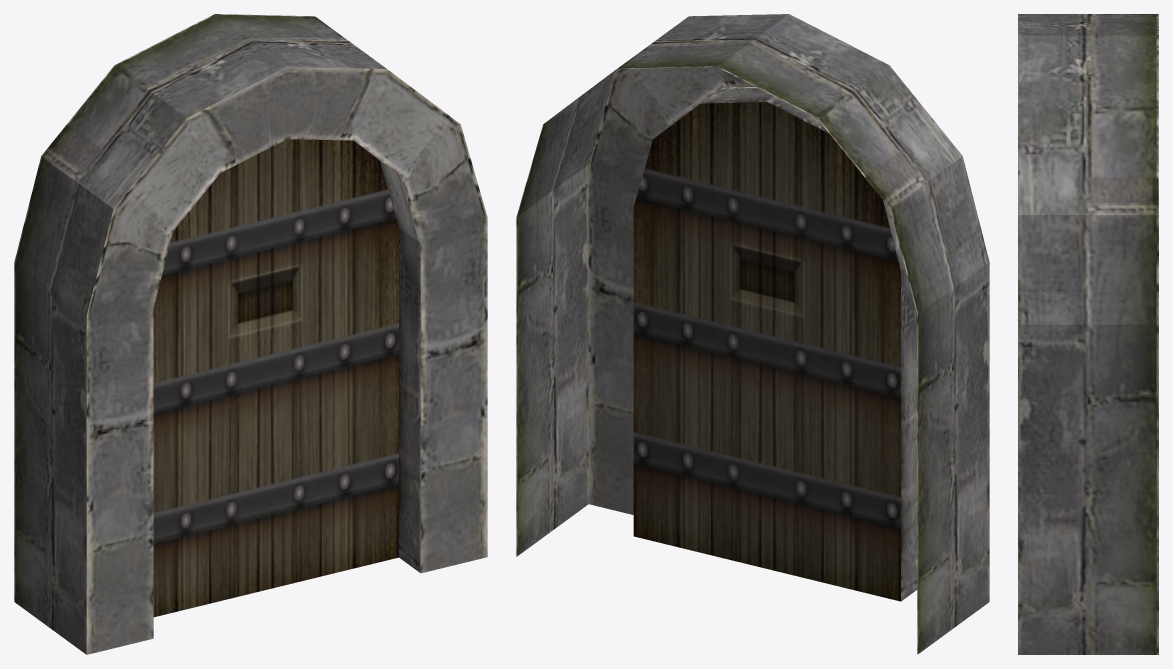
The model's file is CastleHouseDoor.FBX.
3 views of the same model, side by side, from view 1: azimuth 30°, elevation 25°; view 2: azimuth 150°, elevation 25°; view 3: azimuth 270°, elevation 25° (orthographic). The views are drawn at different scales.
Parts seen in each view (by area): view 1: CastleHouseDoor; view 2: CastleHouseDoor; view 3: CastleHouseDoor.
Boxes of the visible parts, x1=… form: CastleHouseDoor: x1=14, y1=14, x2=487, y2=654; CastleHouseDoor: x1=516, y1=14, x2=989, y2=654; CastleHouseDoor: x1=1018, y1=14, x2=1158, y2=654.
Bounding box in the file's own units: 257 × 330 × 80.39.
